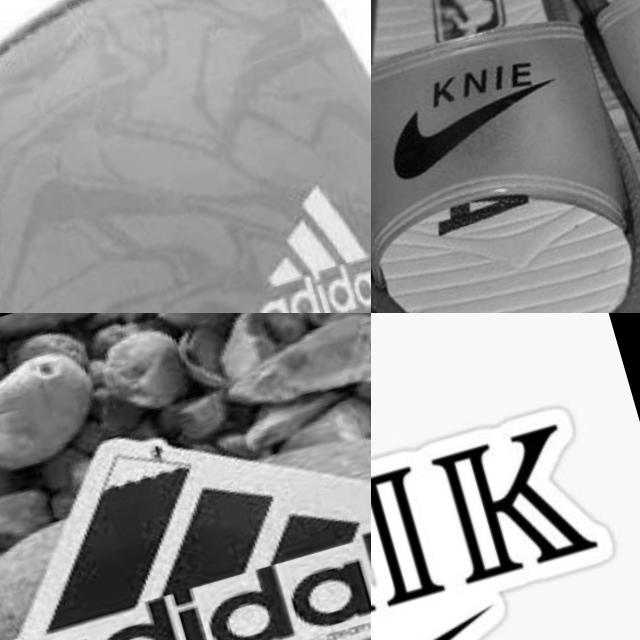ADIDAS_fake: (0, 383, 371, 640)
ADIDAS_original: (210, 149, 371, 313)
NIKE_fake: (371, 313, 640, 640), (371, 24, 582, 207)
